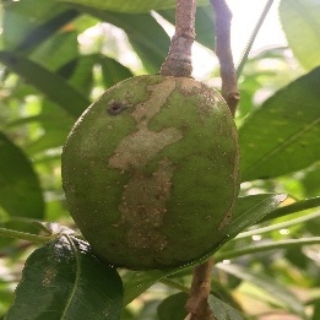coc: (61, 72, 238, 268)
